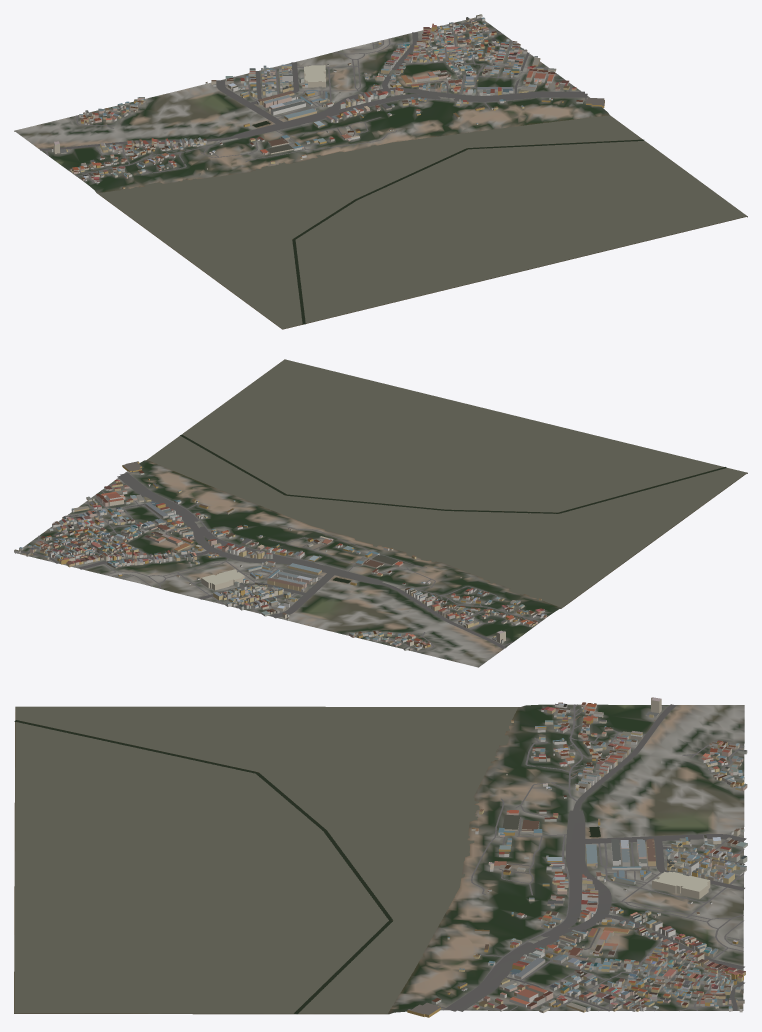
The picture shows the model from 3 angles, top to bottom: view 1: azimuth 30°, elevation 25°; view 2: azimuth 150°, elevation 25°; view 3: azimuth 270°, elevation 25°; orthographic projection. The views are drawn at different scales.
Parts seen in each view (by area): view 1: water, ground, buildings, roads; view 2: water, ground, buildings, roads; view 3: water, ground, buildings, roads.
Part boxes in pixels (box(x1,y1,x2,y2)): water: box(98, 115, 746, 328); ground: box(14, 17, 747, 329); buildings: box(51, 14, 604, 189); roads: box(40, 18, 589, 182); water: box(147, 359, 746, 607); ground: box(15, 359, 747, 667); buildings: box(14, 461, 546, 650); roads: box(19, 472, 545, 652); water: box(14, 706, 600, 1014); ground: box(14, 704, 744, 1014); buildings: box(407, 697, 747, 1017); roads: box(440, 704, 746, 1011).
Size of the model in its own units: 1426 by 34.3 by 1411.
